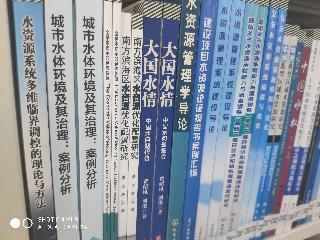book-spine: (233, 0, 279, 240), (214, 0, 259, 240), (243, 1, 288, 240), (13, 0, 55, 240), (177, 0, 218, 240), (205, 0, 245, 240), (228, 0, 268, 240), (275, 29, 320, 234), (256, 26, 299, 240), (162, 0, 200, 240), (193, 0, 231, 240), (261, 32, 305, 239), (267, 38, 312, 236), (250, 25, 290, 240), (45, 1, 79, 240), (281, 50, 320, 232), (150, 4, 180, 240), (133, 2, 161, 240), (75, 1, 102, 240), (127, 16, 142, 239), (117, 15, 130, 239), (109, 2, 121, 239), (103, 1, 111, 239)
